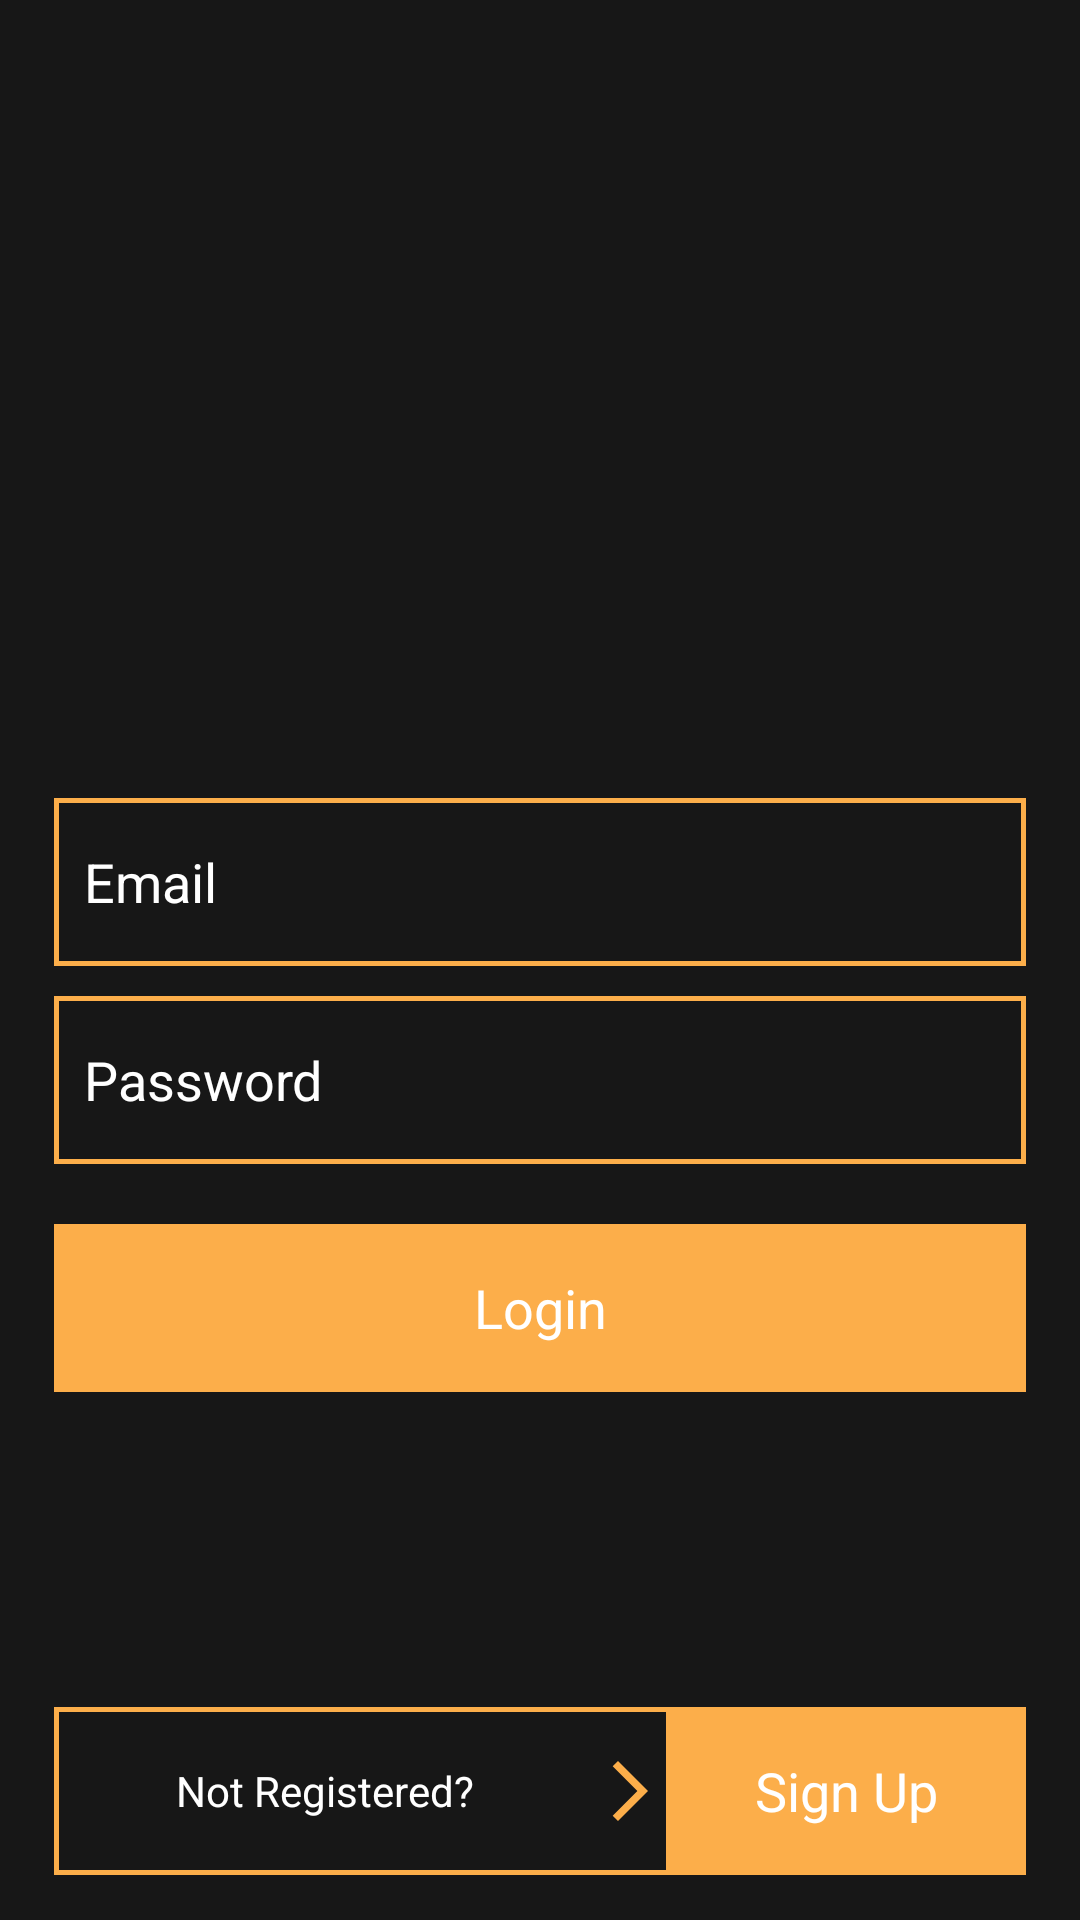

Screen size 1080 × 1920. Icon name, then its box in pixels as box(x1, y1, x2, y2):
forward: box(613, 1761, 648, 1821)
